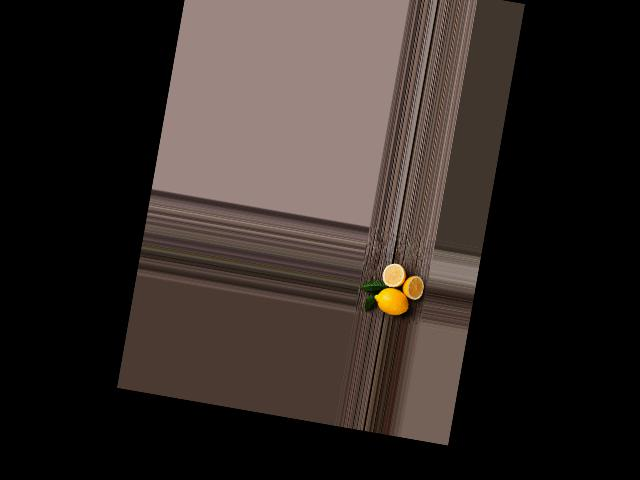lemon: (369, 282, 411, 315)
